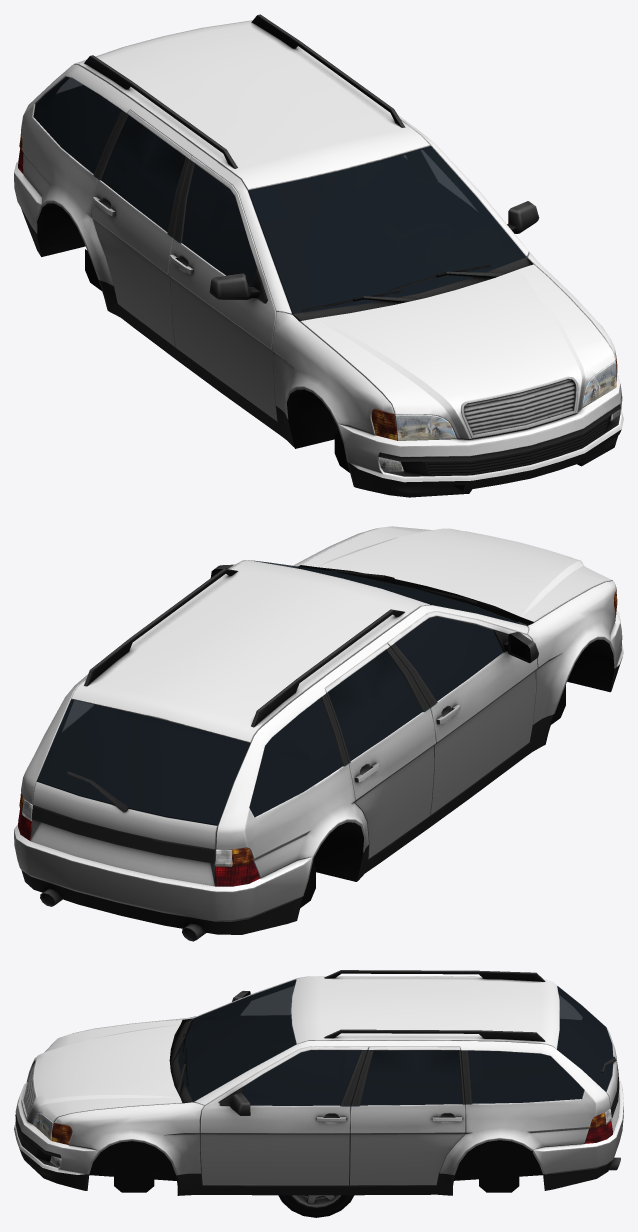
The model's file is kombi.glb.
3 renders of one model, top to bottom at view 1: azimuth 30°, elevation 25°; view 2: azimuth 150°, elevation 25°; view 3: azimuth 270°, elevation 25°, orthographic. The views are drawn at different scales.
Visible parts, largest first — view 1: paint, glass, head, tail; view 2: paint, glass, tail; view 3: paint, glass, wheel0, tail, head.
Boxes of the visible parts, x1,y1,x2,y2 form: paint: (14, 14, 623, 497); glass: (33, 77, 526, 314); head: (22, 168, 621, 472); tail: (18, 132, 617, 440); paint: (14, 526, 623, 941); glass: (36, 560, 526, 825); tail: (18, 589, 617, 886); paint: (14, 970, 623, 1195); glass: (178, 979, 613, 1105); wheel0: (278, 1195, 354, 1217); tail: (51, 1113, 612, 1144); head: (33, 1109, 611, 1167).
Size of the model in its own units: 1.95 by 1.68 by 4.38.
Materials: 5 (4 with a texture image).
